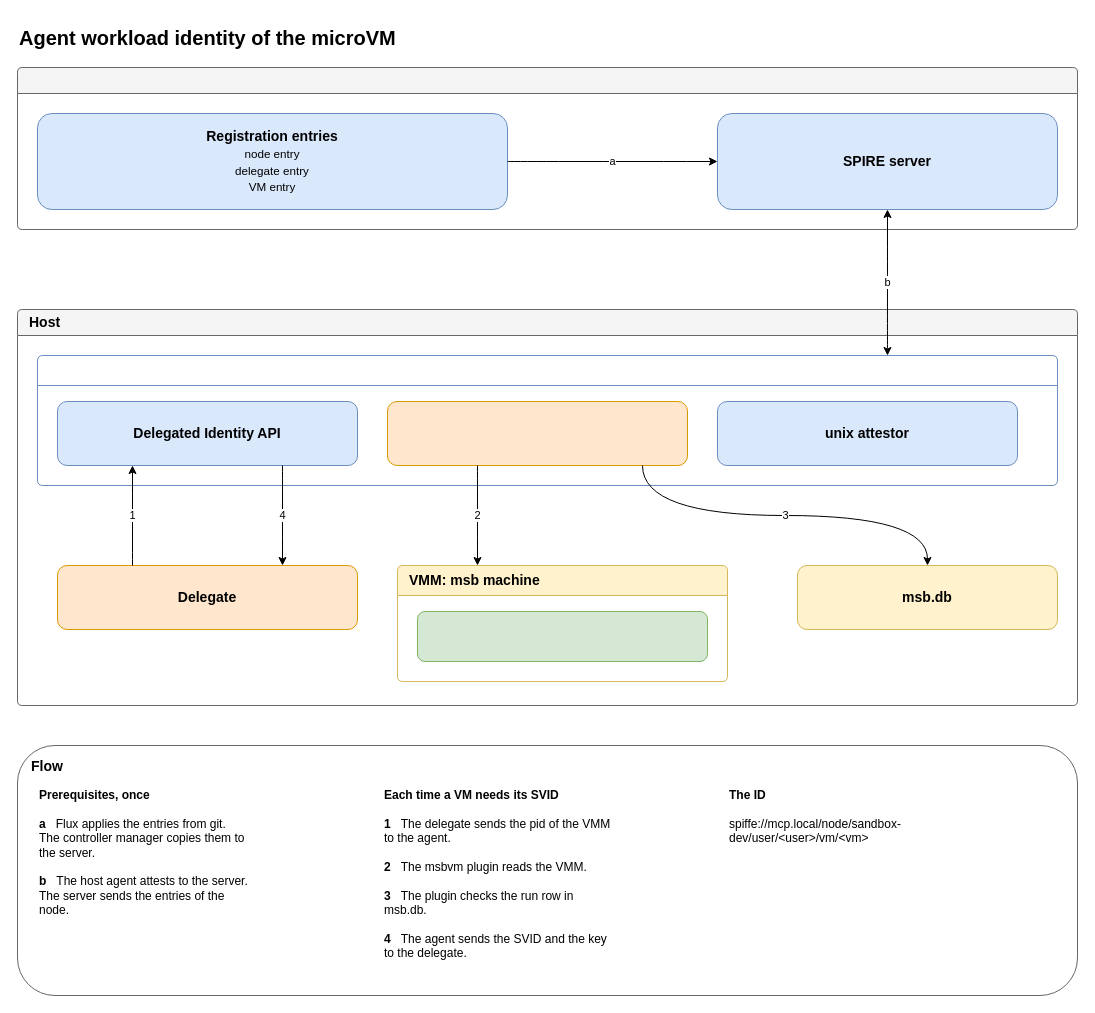
Image size: 1095x1013. Some labels were removed from this diagram. Here are the shapes that lost their labels. From the top down, the box of each, then its label:
(16, 66, 1078, 230): k3s cluster
(386, 400, 688, 466): msbvm plugin
(36, 354, 1058, 486): Host SPIRE agent
(416, 610, 708, 662): microVM
